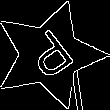P_SE: (18, 24, 81, 86)
